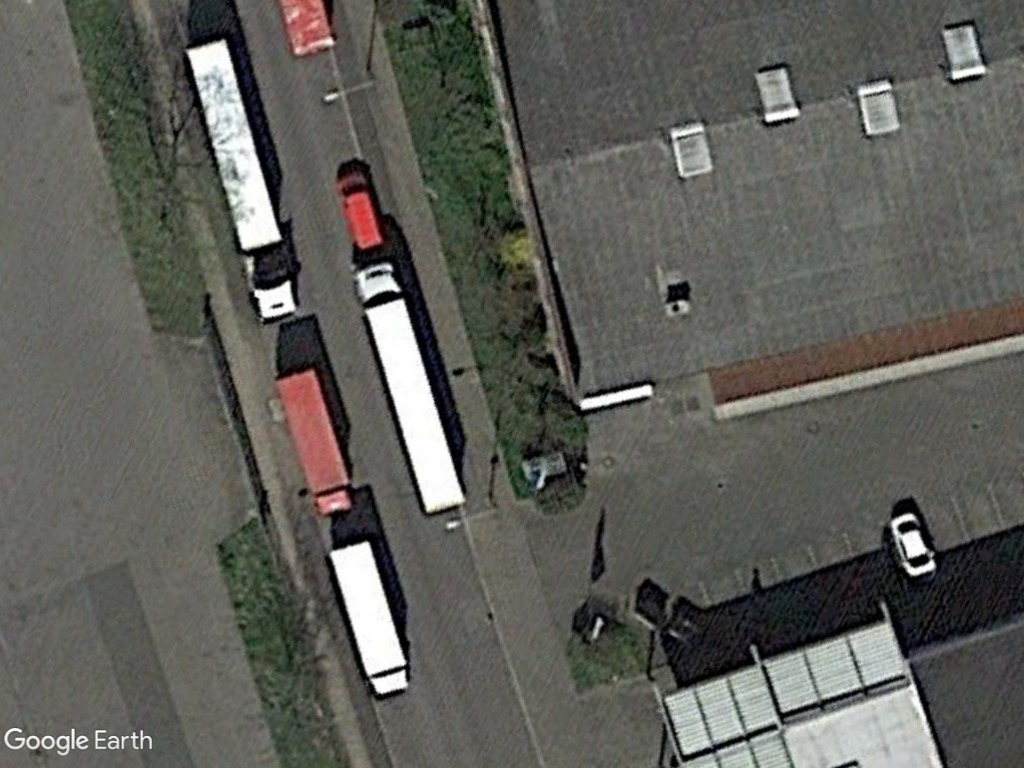car: (885, 504, 939, 581)
longvehicle: (182, 34, 302, 327), (354, 261, 470, 519)
truck: (324, 538, 415, 703), (273, 366, 356, 518)
van: (335, 170, 385, 253)
